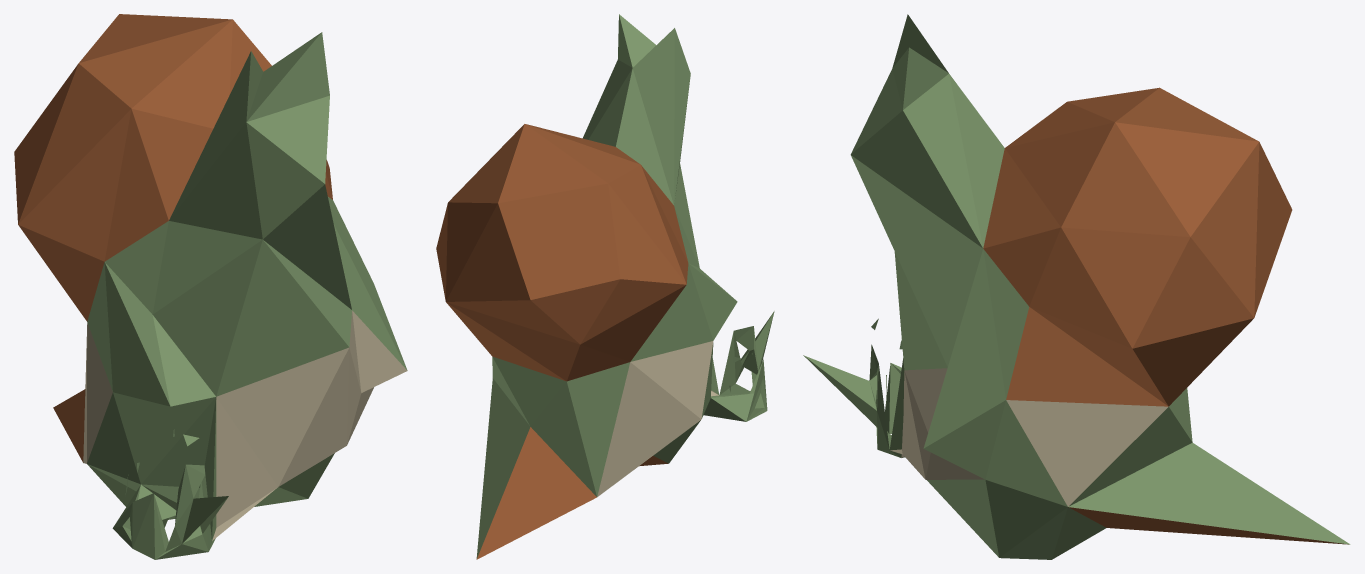
The picture shows the model from 3 angles, left to right: view 1: azimuth 30°, elevation 25°; view 2: azimuth 150°, elevation 25°; view 3: azimuth 270°, elevation 25°; orthographic projection. The views are drawn at different scales.
Parts seen in each view (by area): view 1: lion-200; view 2: lion-200; view 3: lion-200.
Part boxes in pixels (x1,y1,x2,y2): lion-200: [14, 14, 407, 559]; lion-200: [436, 14, 774, 559]; lion-200: [803, 14, 1350, 559].
Size of the model in its own units: 0.565 by 0.9017 by 0.8653.
